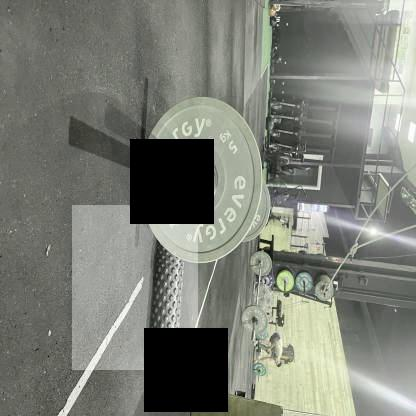barbell: (72, 206, 199, 371)
